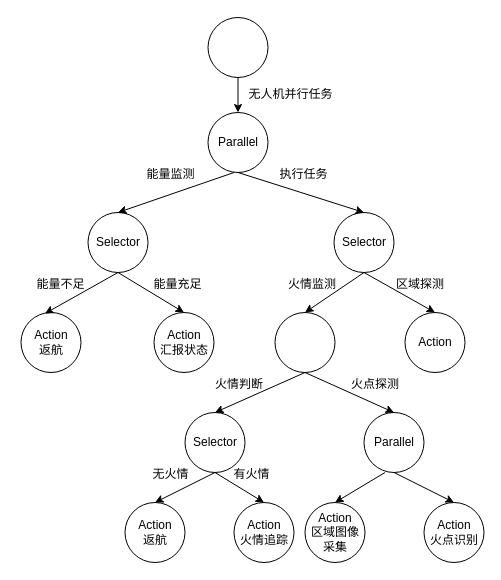
Image size: 501x580. Some labels were removed from this diagram. The centre of each missing label's shape, as x and y in pixels:
"Root" goes at [237,47].
"Sequence" goes at [304,342].
